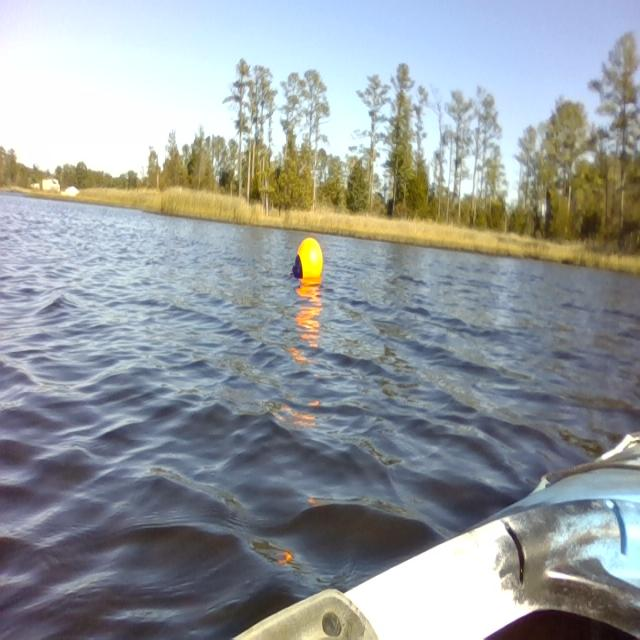Buoy: (289, 233, 327, 302)
